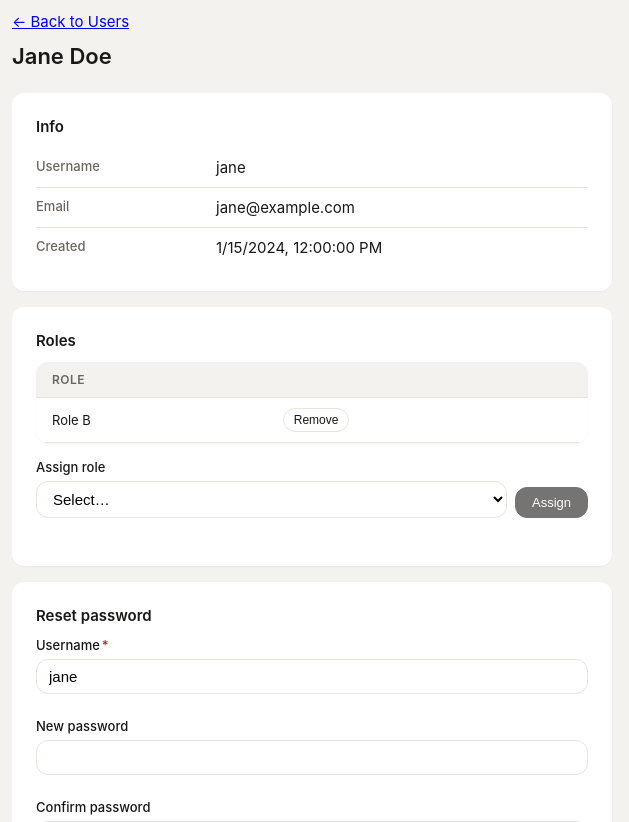
it: AdminUserDetailPage › assign role: a second click while the first POST is in flight issues no second POST (P2)
Select "Role A" in the dropdown with id "assign-role" at {"x": 272, "y": 500}, box [36,481,507,518]
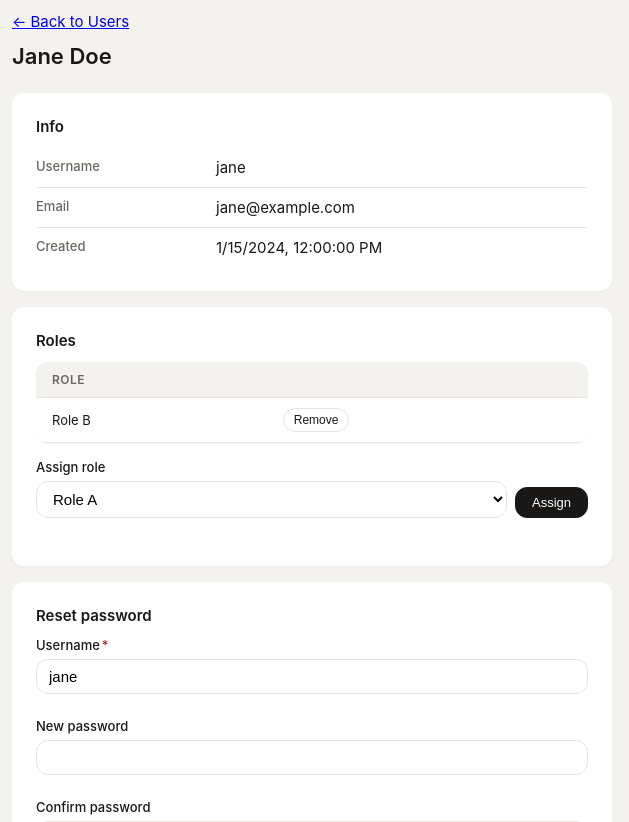
Click the button "Assign" at {"x": 552, "y": 502}, box [515,487,588,518]
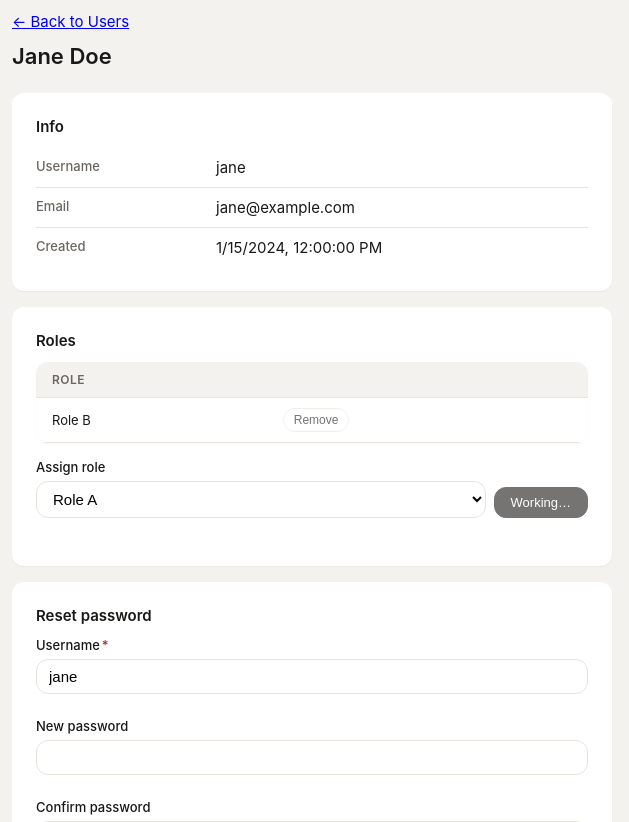
expect the button "Working…" is disabled: met
expect the button "Working…" is shown: met
Click the button "Working…" at {"x": 541, "y": 502}, box [494,487,588,518]
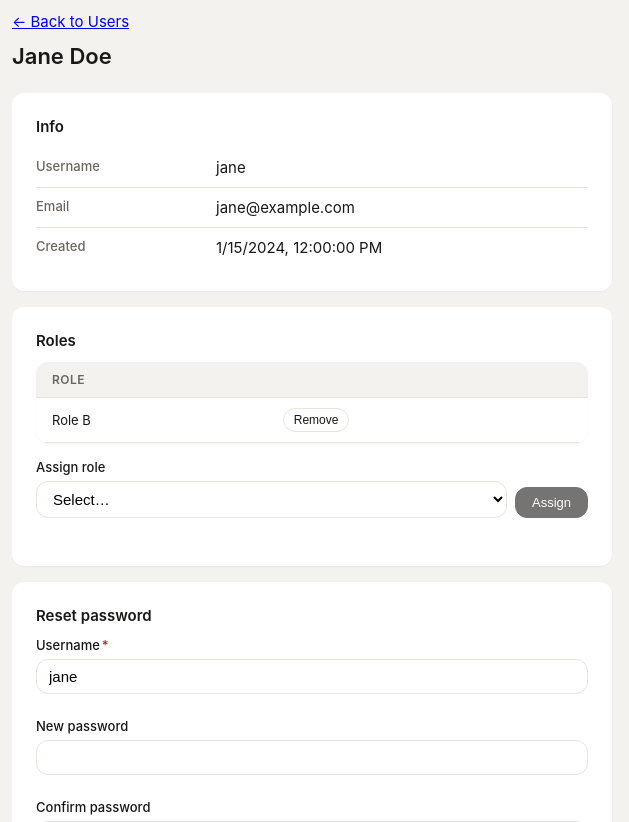
expect the button "Assign" is shown: met, box [515,487,588,518]
